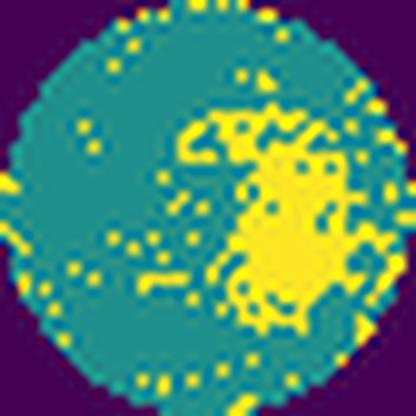Edge-Loc: (178, 104, 393, 339)
